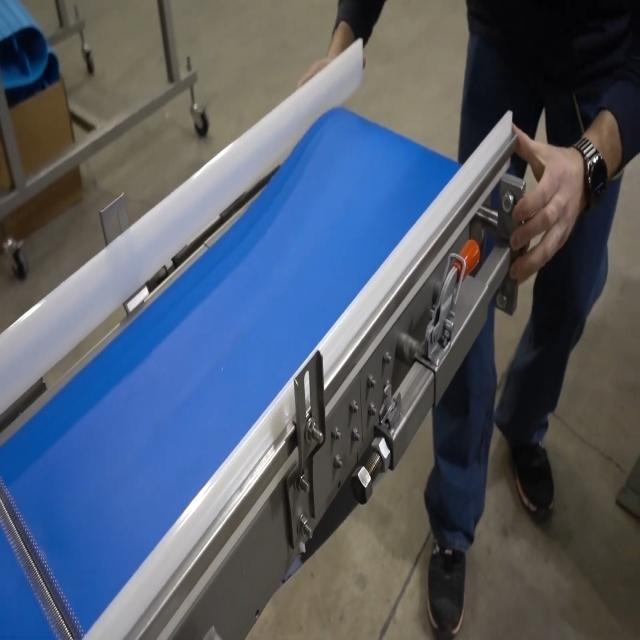Convoyeur: (0, 108, 542, 640)
